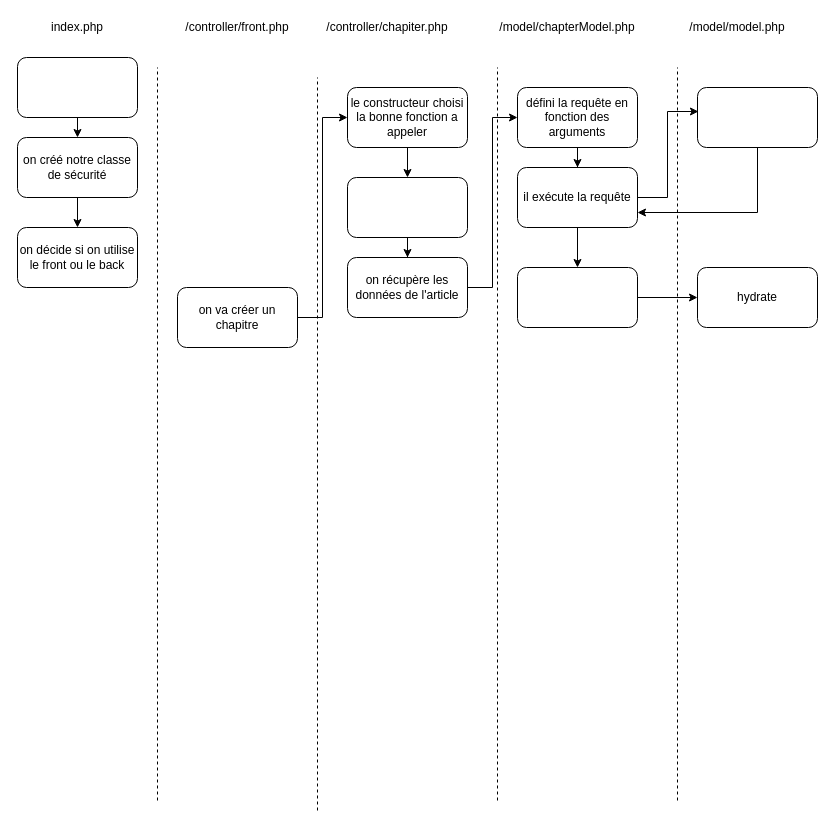
This 835x829 diagram has some shape labels left out. The box of each missing label's shape, as (x1, y1, x2, y2) in pixels:
il rempli la classe avec les données: (516, 266, 638, 328)
on fait un chapitre simple: (346, 176, 468, 238)
on instancie notre model: (16, 56, 138, 118)
query: (696, 86, 818, 148)
